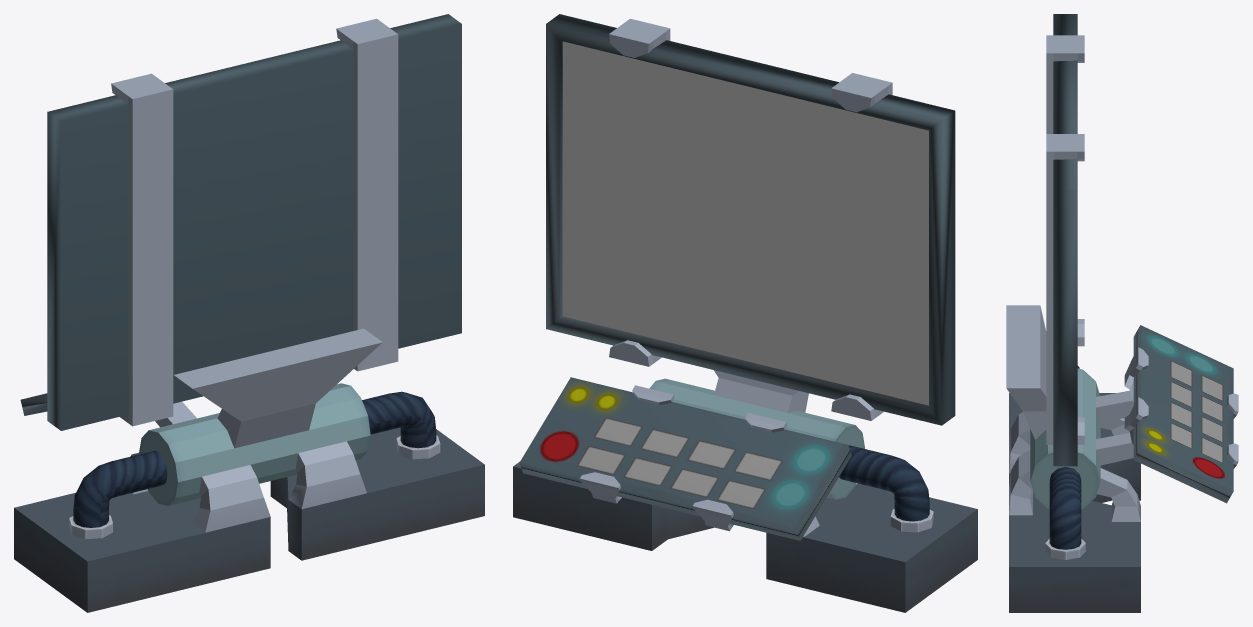
Rendered from ReactorCore_Monitor.fbx.
The picture shows the model from 3 angles, left to right: view 1: azimuth 30°, elevation 25°; view 2: azimuth 150°, elevation 25°; view 3: azimuth 270°, elevation 25°; orthographic projection. The views are drawn at different scales.
Visible parts, largest first — view 1: polySurface396; view 2: polySurface391, polySurface396; view 3: polySurface396.
Part boxes in pixels (<box>): polySurface396: <box>14,14,484,612</box>; polySurface391: <box>562,41,928,405</box>; polySurface396: <box>513,14,977,612</box>; polySurface396: <box>1006,14,1238,612</box>.
Bounding box in the file's own units: 1.45 × 1.66 × 0.8092.
